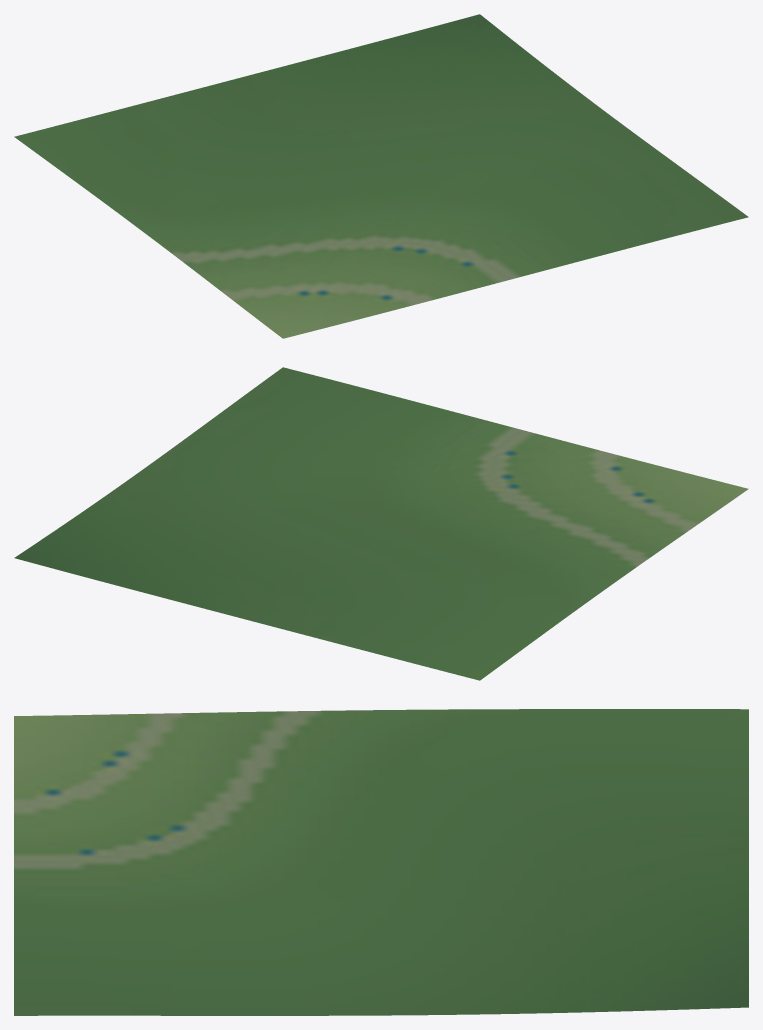
The model's file is terrain_T_W03_N04.glb.
The picture shows the model from 3 angles, top to bottom: view 1: azimuth 30°, elevation 25°; view 2: azimuth 150°, elevation 25°; view 3: azimuth 270°, elevation 25°; orthographic projection. The views are drawn at different scales.
Parts seen in each view (by area): view 1: Terrain_T_W03_N04; view 2: Terrain_T_W03_N04; view 3: Terrain_T_W03_N04.
Part boxes in pixels (<box>): Terrain_T_W03_N04: <box>14,14,748,338</box>; Terrain_T_W03_N04: <box>14,367,748,680</box>; Terrain_T_W03_N04: <box>14,709,748,1015</box>.
Bounding box in the file's own units: 2000 × 57.63 × 2000.
1 material, 1 textured.
